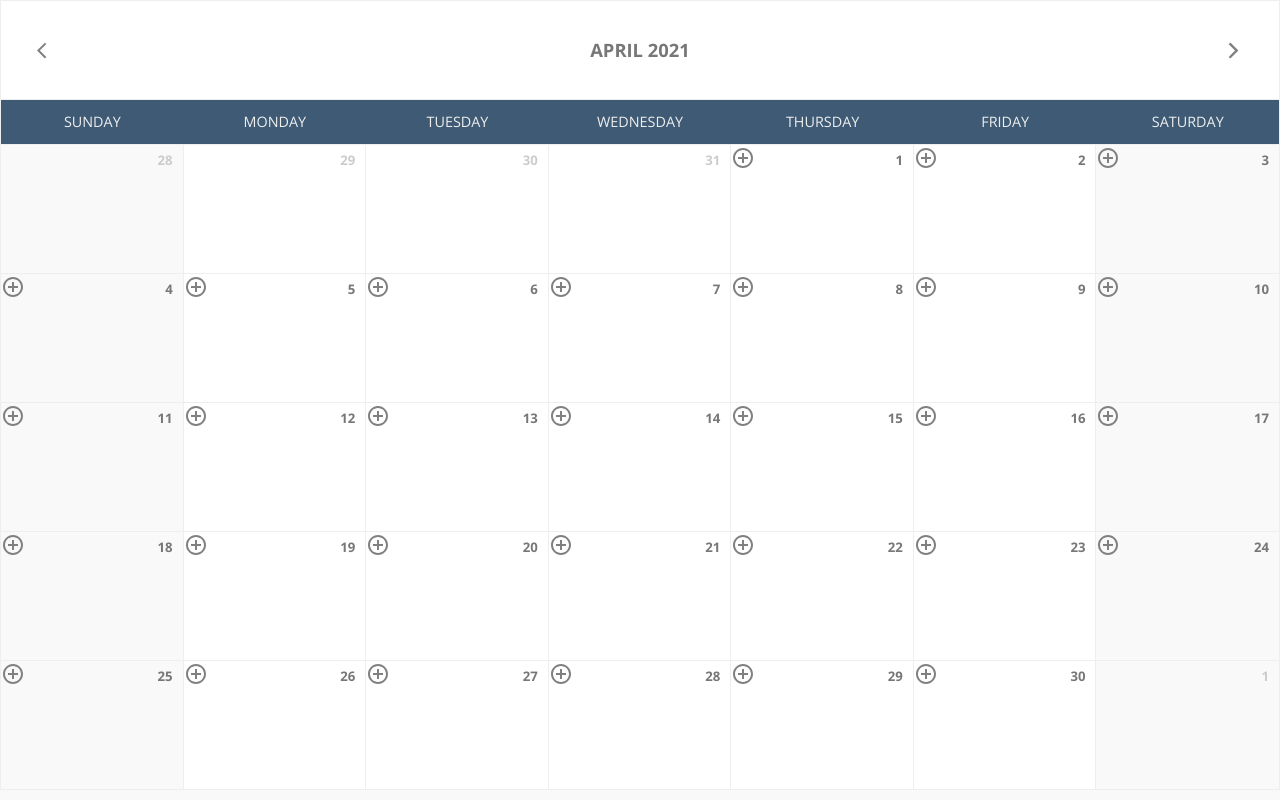
Test case: Create reminder › should open CreateReminder modal on add-reminder-icon click
Click the 1st button with test id "add-reminder-button". click: (743, 158)
box: [731,146,755,170]
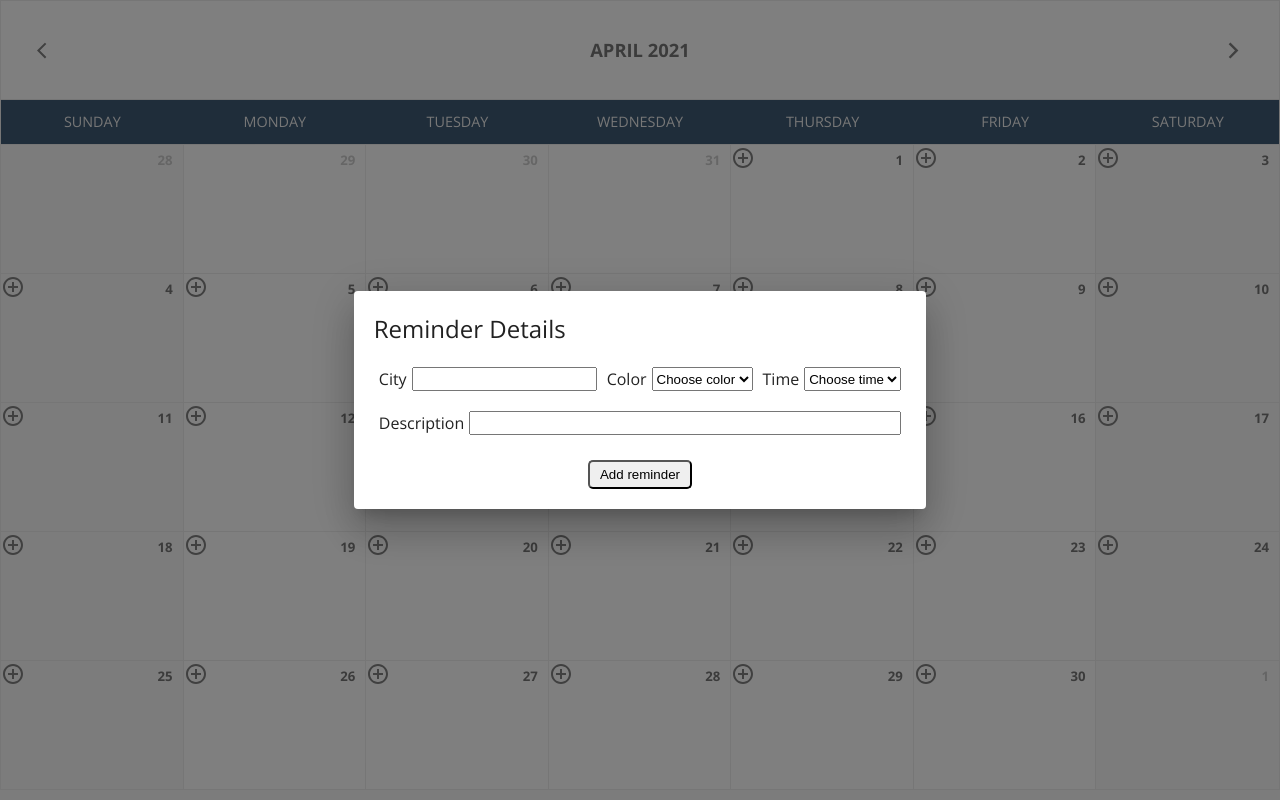
Expected: the form with test id "create-reminder" is shown, [374,347,906,489]
